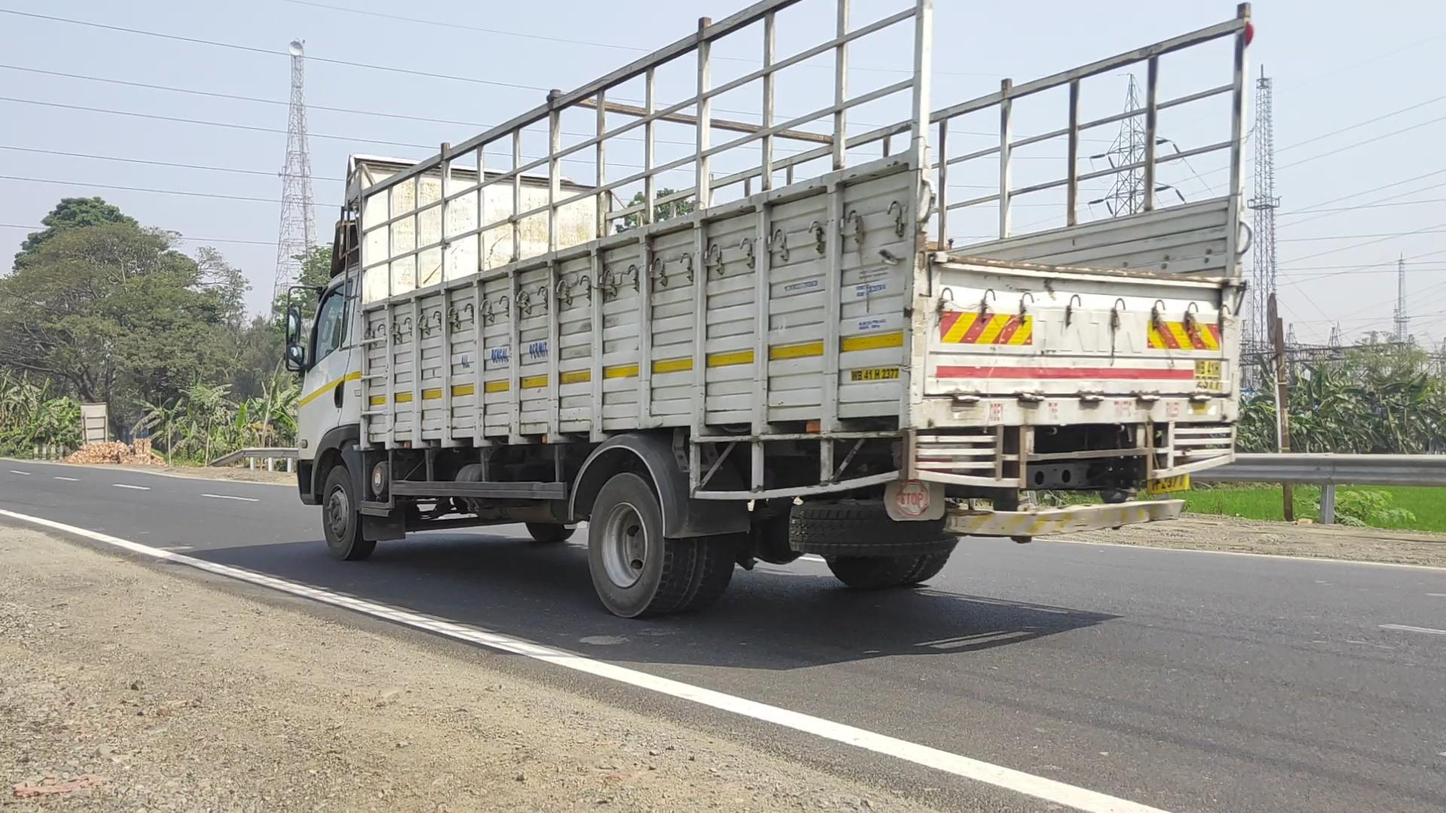van: (284, 1, 1252, 621)
